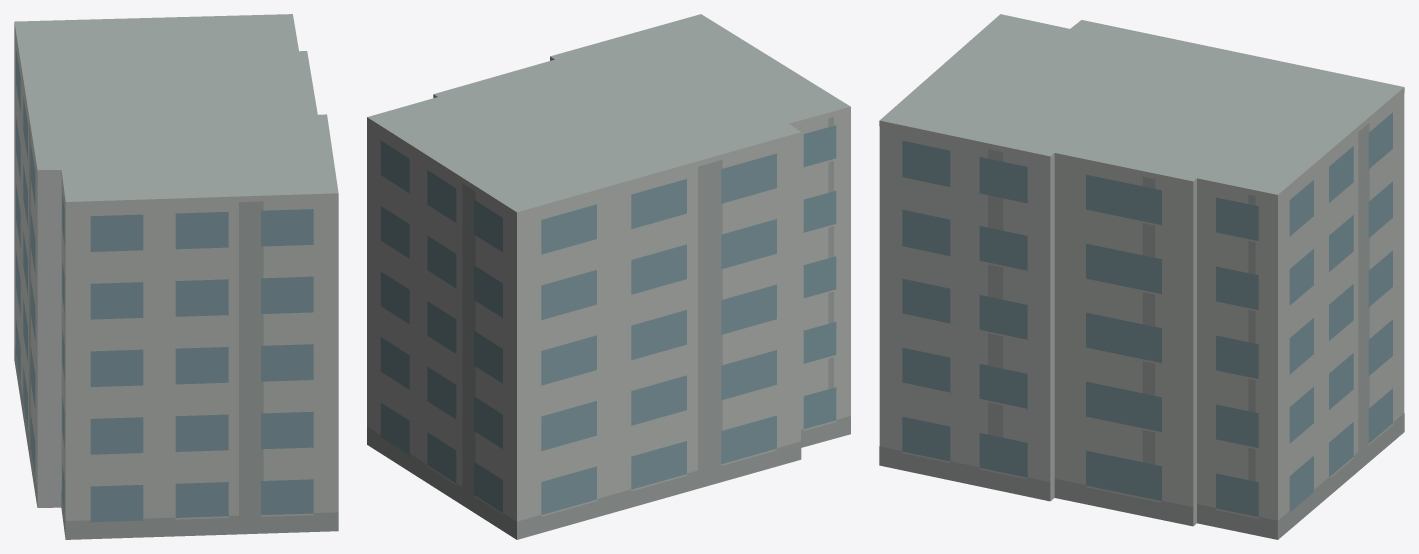
File: survey-upis-32893361.glb
3 views of the same model, side by side, from view 1: azimuth 30°, elevation 25°; view 2: azimuth 150°, elevation 25°; view 3: azimuth 270°, elevation 25° (orthographic). The views are drawn at different scales.
Visible parts, largest first — view 1: survey-upis-32893361.tmp; view 2: survey-upis-32893361.tmp; view 3: survey-upis-32893361.tmp.
Part boxes in pixels (x1=…): survey-upis-32893361.tmp: x1=14, y1=14, x2=338, y2=539; survey-upis-32893361.tmp: x1=367, y1=14, x2=850, y2=539; survey-upis-32893361.tmp: x1=879, y1=14, x2=1404, y2=539.
Bounding box in the file's own units: 16.43 × 14.6 × 20.15.
